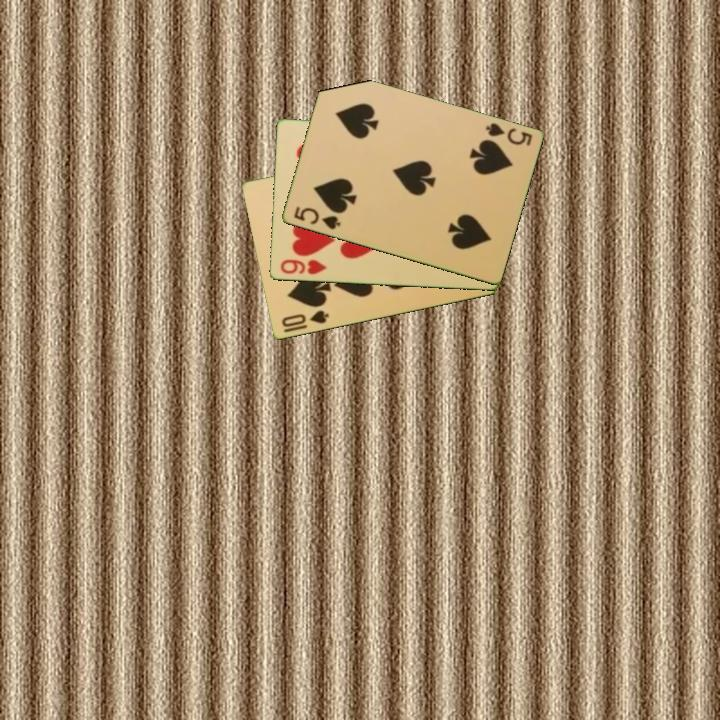10s: (278, 307, 332, 330)
5s: (481, 119, 535, 149), (290, 203, 343, 233)
9h: (277, 256, 329, 278)
